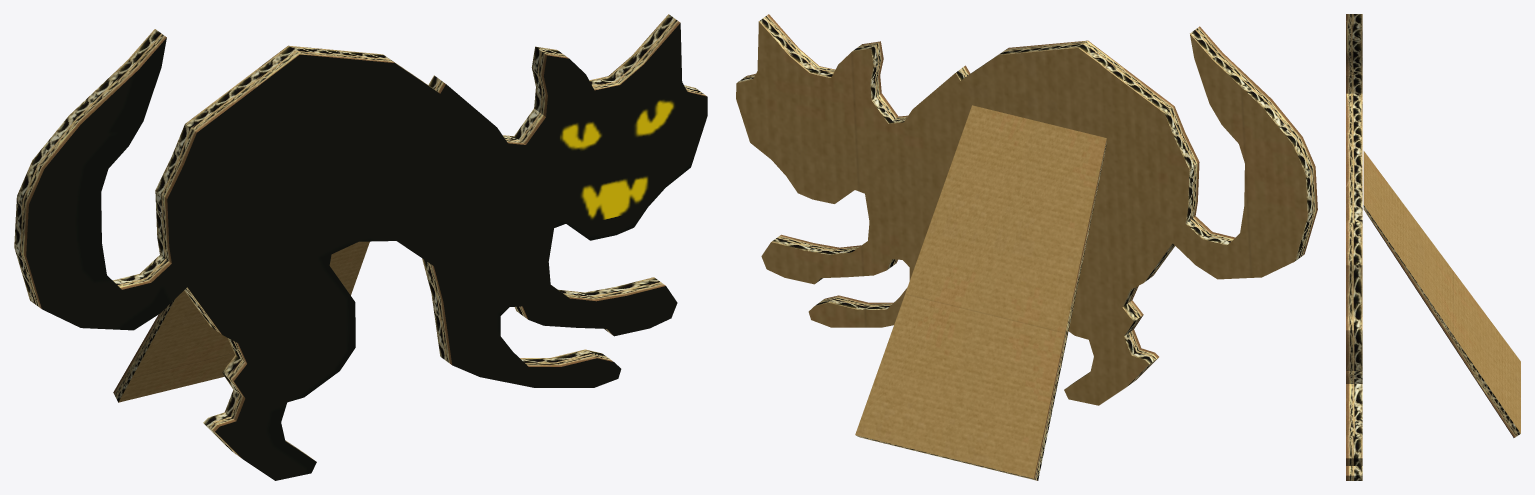
Rendered from cardboard_cat.fbx.
3 renders of one model, left to right at view 1: azimuth 30°, elevation 25°; view 2: azimuth 150°, elevation 25°; view 3: azimuth 270°, elevation 25°, orthographic. The views are drawn at different scales.
Parts seen in each view (by area): view 1: cardboard_cat; view 2: cardboard_cat; view 3: cardboard_cat.
Boxes of the visible parts, bbox=[...] form: cardboard_cat: bbox=[14, 14, 707, 480]; cardboard_cat: bbox=[736, 14, 1317, 480]; cardboard_cat: bbox=[1346, 14, 1520, 480].
Bounding box in the file's own units: 1.9 × 1.26 × 0.6086.
